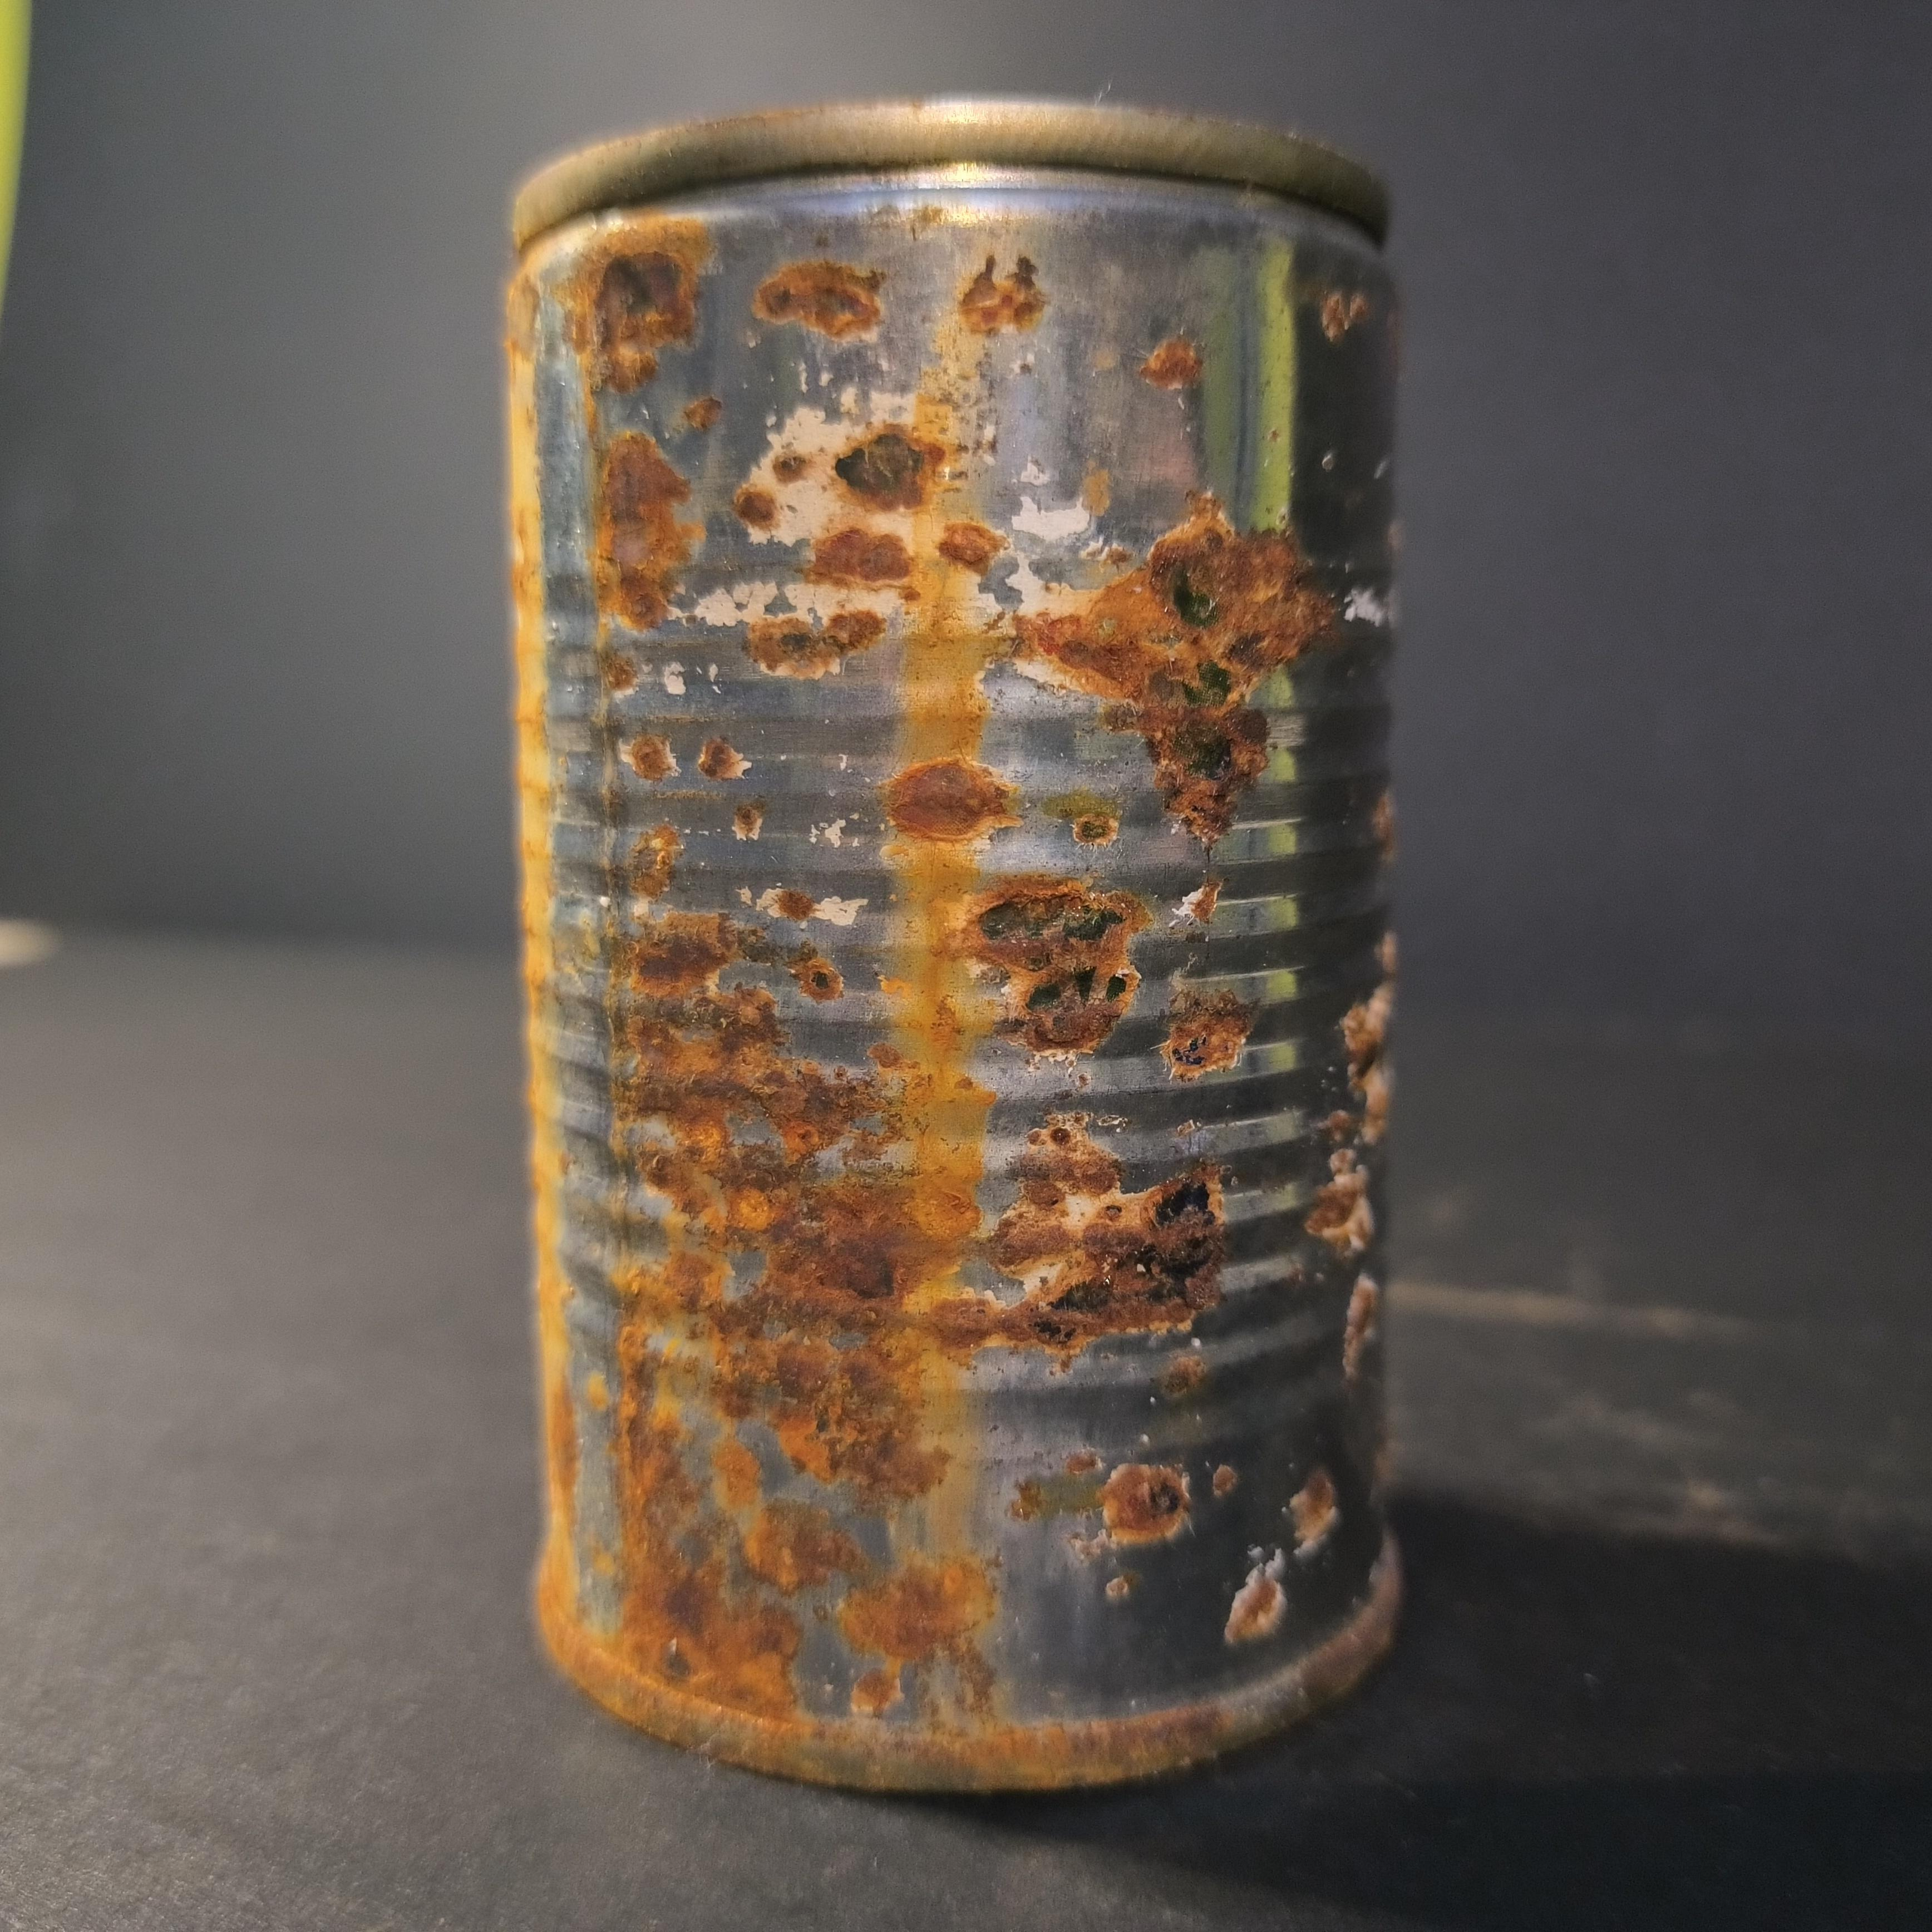Rusted: (472, 92, 1442, 1799)
